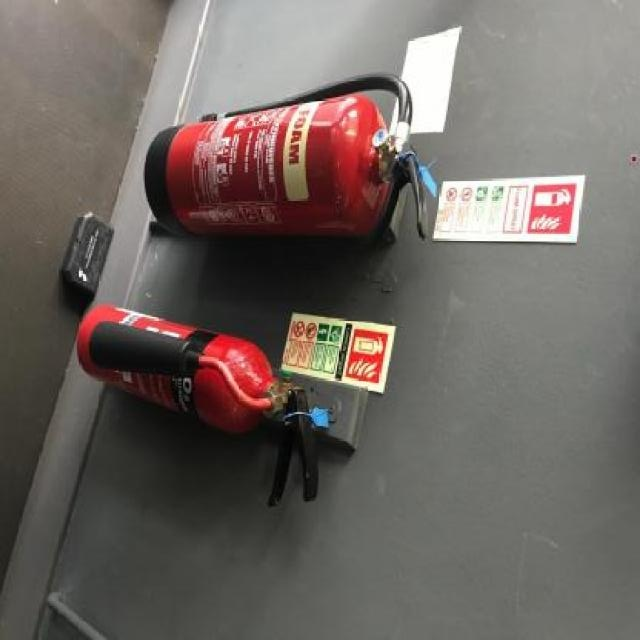fire extinguisher: (76, 299, 373, 492), (147, 69, 419, 234)
